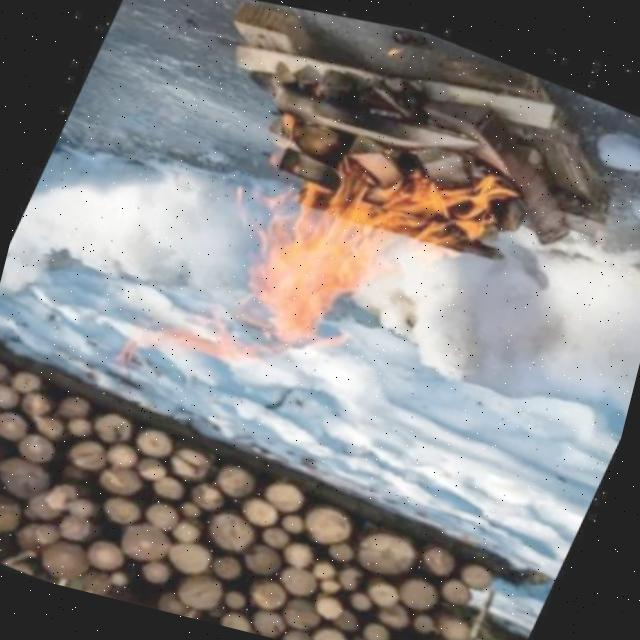fire: (93, 29, 542, 511)
